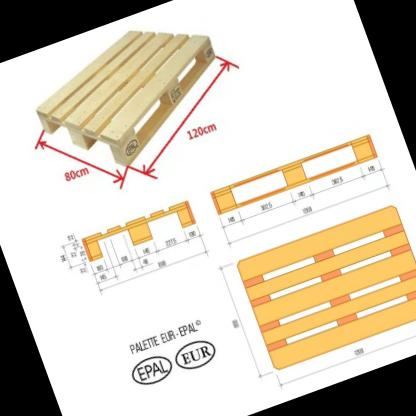BoxFace: (232, 203, 416, 372), (33, 27, 219, 172), (205, 133, 379, 218), (81, 200, 195, 262)
